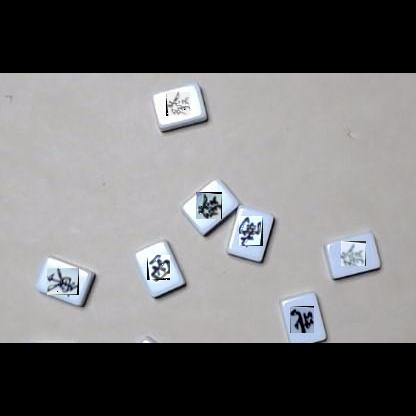1z: (47, 268, 79, 295)
2z: (239, 216, 263, 246)
3z: (147, 255, 170, 280)
4z: (290, 306, 314, 333)
6z: (196, 192, 222, 219), (341, 241, 366, 266), (166, 92, 190, 116)
